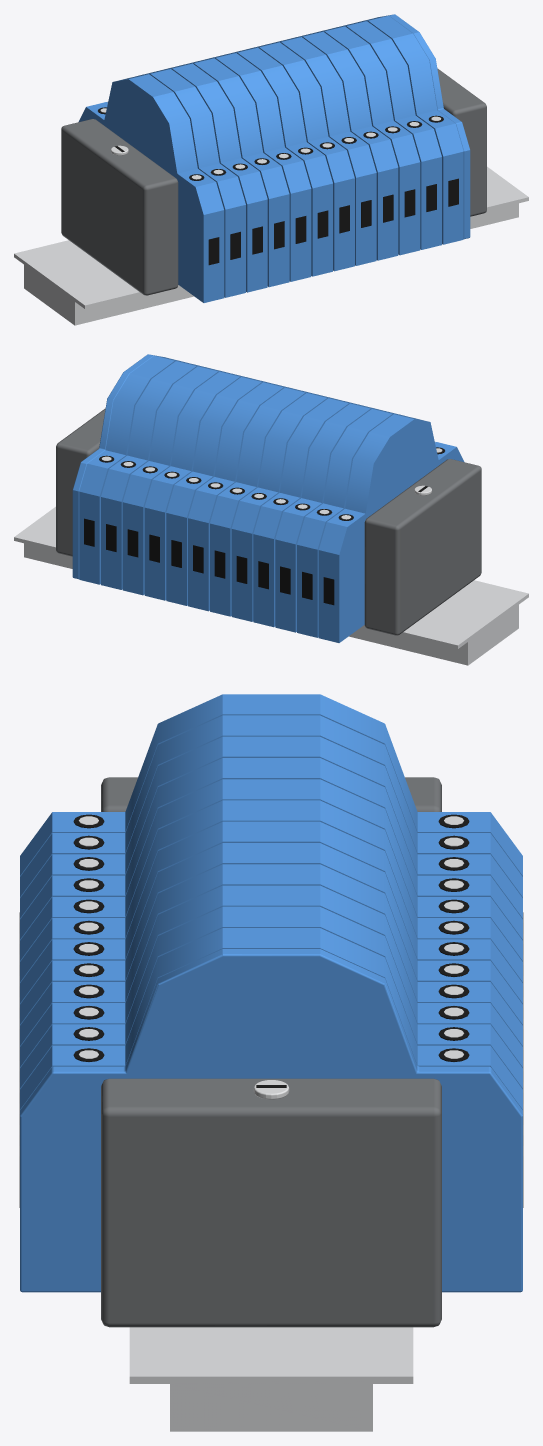
File: terminal-strip-blue.glb
The picture shows the model from 3 angles, top to bottom: view 1: azimuth 30°, elevation 25°; view 2: azimuth 150°, elevation 25°; view 3: azimuth 270°, elevation 25°; orthographic projection. The views are drawn at different scales.
Visible parts, largest first — view 1: Borne.001, Batente.002, Trilho.001, Borne_Entrada.003, Batente.003, Tampa_Final.001, Borne_Furo.007, Borne_Parafuso.007; view 2: Borne.001, Batente.002, Trilho.001, Borne_Entrada.002, Batente.003, Tampa_Final.001, Borne_Furo.006, Borne_Parafuso.006; view 3: Borne.001, Batente.003, Tampa_Final.001, Trilho.001, Borne_Furo.006, Borne_Furo.007, Batente.002, Borne_Parafuso.006, Borne_Parafuso.007.
Part boxes in pixels (x1=…): Borne.001: x1=78, y1=15, x2=463, y2=302; Batente.002: x1=61, y1=119, x2=178, y2=295; Trilho.001: x1=14, y1=166, x2=528, y2=325; Borne_Entrada.003: x1=208, y1=178, x2=458, y2=265; Batente.003: x1=437, y1=68, x2=486, y2=216; Tampa_Final.001: x1=374, y1=14, x2=470, y2=239; Borne_Furo.007: x1=189, y1=115, x2=443, y2=180; Borne_Parafuso.007: x1=191, y1=116, x2=441, y2=179; Borne.001: x1=79, y1=355, x2=464, y2=642; Batente.002: x1=364, y1=459, x2=481, y2=635; Trilho.001: x1=14, y1=506, x2=528, y2=665; Borne_Entrada.002: x1=84, y1=518, x2=334, y2=605; Batente.003: x1=56, y1=408, x2=105, y2=556; Tampa_Final.001: x1=72, y1=354, x2=168, y2=579; Borne_Furo.006: x1=99, y1=455, x2=353, y2=520; Borne_Parafuso.006: x1=101, y1=456, x2=351, y2=519; Borne.001: x1=20, y1=694, x2=522, y2=1109; Batente.003: x1=101, y1=1078, x2=441, y2=1327; Tampa_Final.001: x1=20, y1=949, x2=522, y2=1292; Trilho.001: x1=129, y1=1327, x2=413, y2=1431; Borne_Furo.006: x1=438, y1=814, x2=469, y2=1061; Borne_Furo.007: x1=73, y1=814, x2=104, y2=1061; Batente.002: x1=101, y1=777, x2=441, y2=811; Borne_Parafuso.006: x1=444, y1=816, x2=464, y2=1058; Borne_Parafuso.007: x1=78, y1=816, x2=98, y2=1058.
Bounding box in the file's own units: 126 × 53.5 × 62.12.
